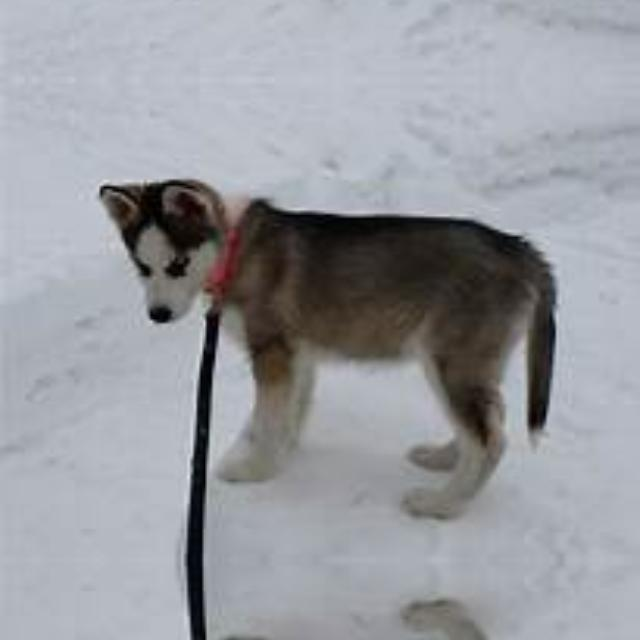dog: (78, 159, 598, 533), (78, 587, 597, 640)
